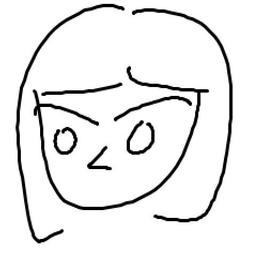empty_eye: (125, 117, 159, 160), (52, 125, 79, 159)
frowning_eyebrow: (112, 94, 191, 125), (35, 98, 99, 128)
pointy_nose: (84, 143, 117, 174)
